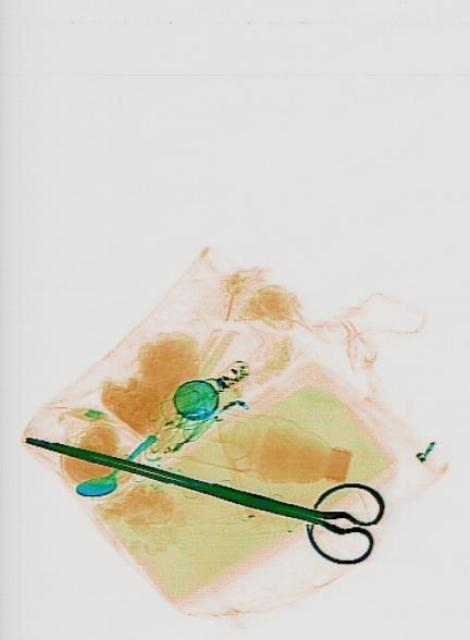Scissors: (17, 400, 383, 570)
